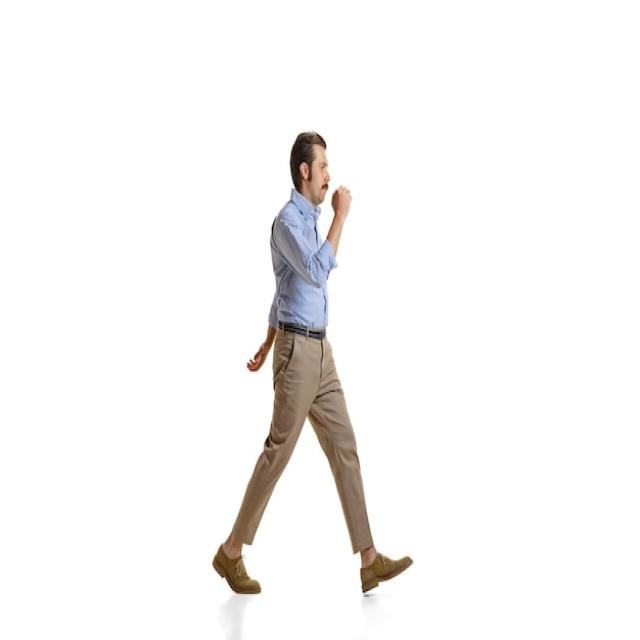Person: (212, 130, 412, 596)
